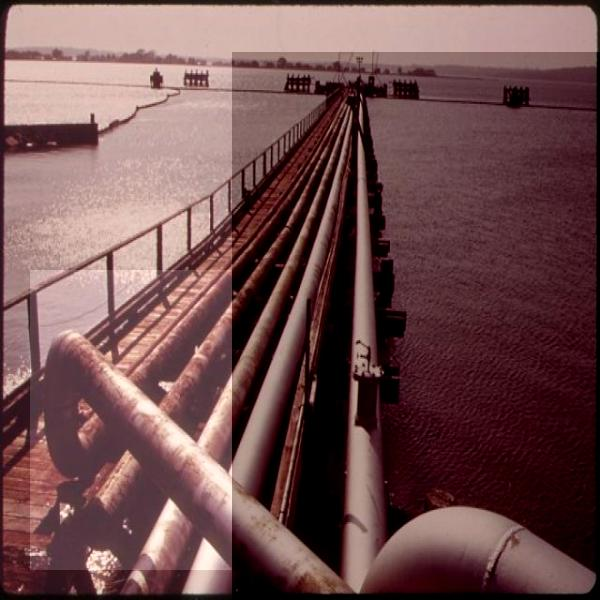no leak: (232, 52, 600, 600), (30, 270, 232, 570)
